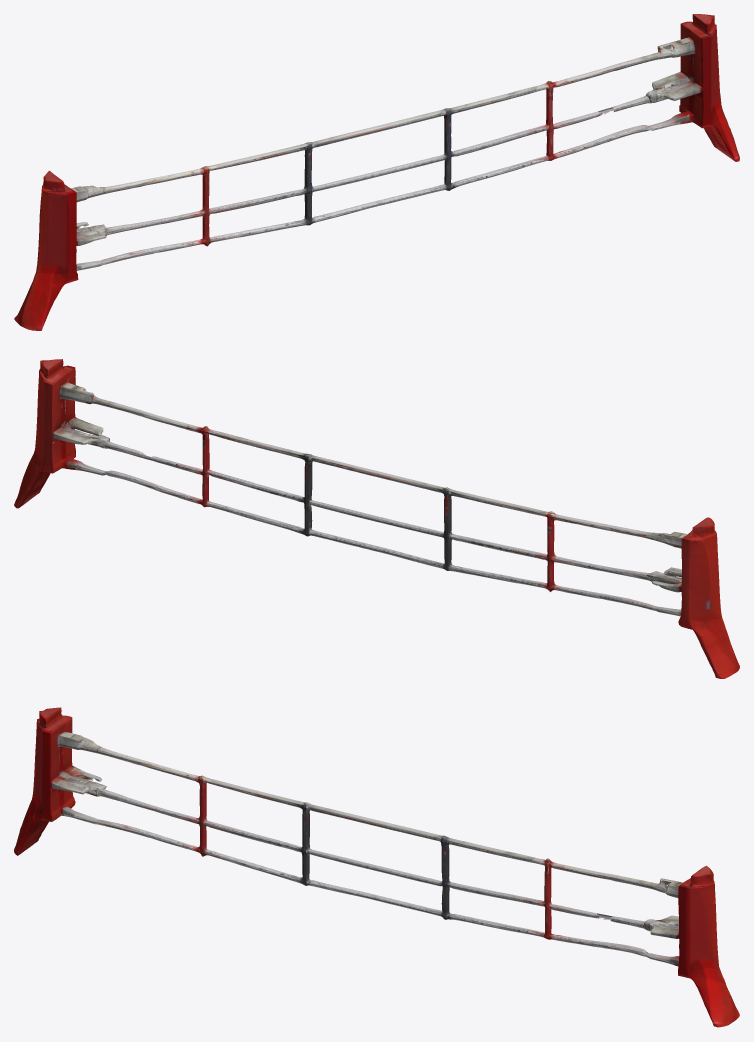
The model's file is barricade.fbx.
3 renders of one model, top to bottom at view 1: azimuth 30°, elevation 25°; view 2: azimuth 150°, elevation 25°; view 3: azimuth 330°, elevation 25°, orthographic.
Visible parts, largest first — view 1: temp; view 2: temp; view 3: temp.
Boxes of the visible parts, x1,y1,x2,y2 form: temp: [14, 14, 739, 330]; temp: [14, 359, 739, 678]; temp: [14, 707, 739, 1027].
Bounding box in the file's own units: 200 × 38.06 × 11.12.
1 material, 1 textured.
